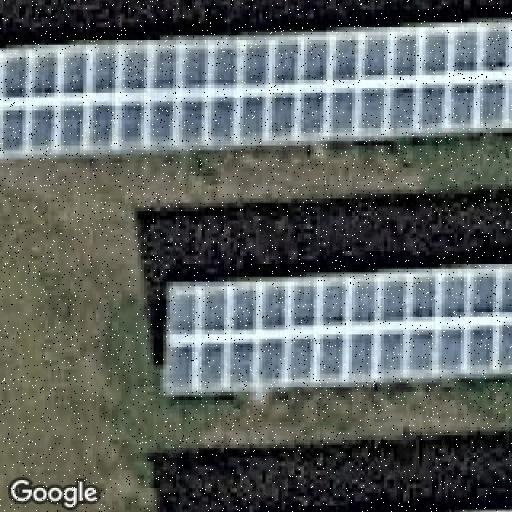solar-panel: (0, 16, 512, 162), (157, 261, 512, 403)
